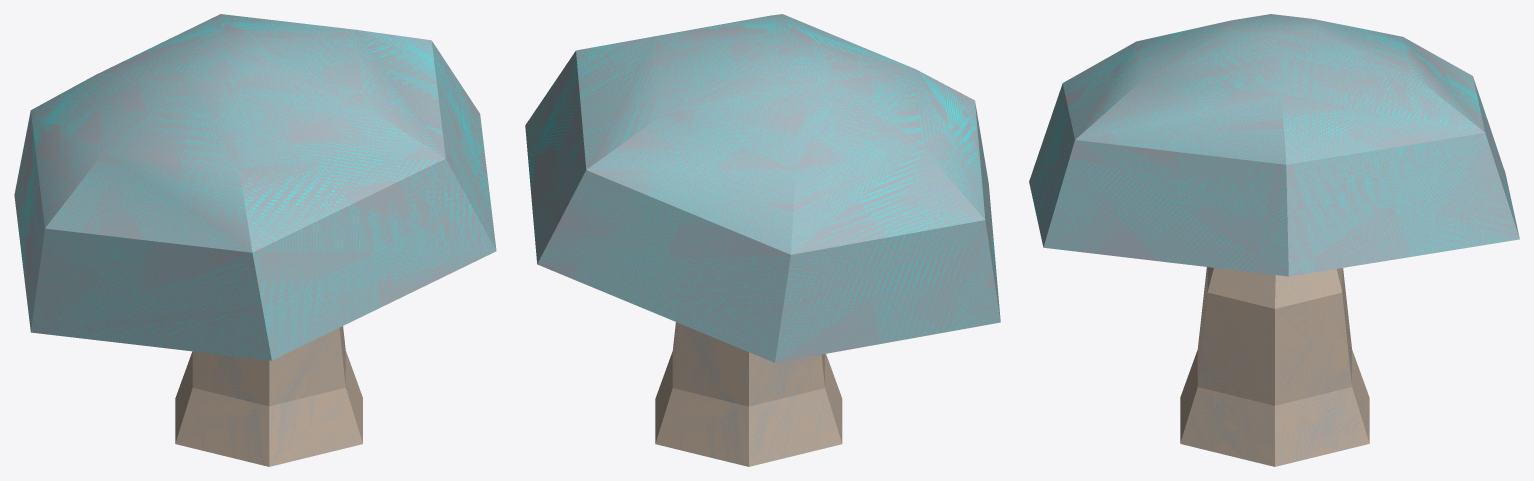
File: Mushroom_09.fbx
3 renders of one model, left to right at view 1: azimuth 30°, elevation 25°; view 2: azimuth 150°, elevation 25°; view 3: azimuth 270°, elevation 25°, orthographic.
Visible parts, largest first — view 1: Model; view 2: Model; view 3: Model.
Boxes of the visible parts, box(x1,y1,x2,y2) form: Model: box(14, 14, 496, 466); Model: box(525, 14, 1000, 466); Model: box(1029, 14, 1519, 466).
Bounding box in the file's own units: 59.91 × 46.68 × 54.47.
